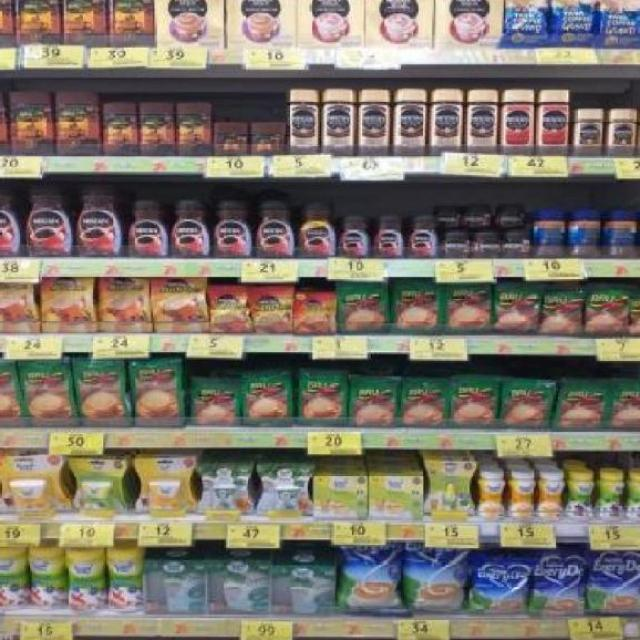Coffee: (28, 182, 73, 255), (79, 183, 118, 255), (154, 279, 204, 333), (42, 278, 91, 332), (102, 278, 149, 332), (128, 199, 165, 256), (255, 199, 291, 256), (214, 200, 250, 257), (173, 200, 209, 256), (430, 91, 462, 152), (288, 91, 319, 153), (395, 90, 425, 154), (468, 91, 497, 153), (326, 90, 354, 153), (211, 287, 250, 332), (361, 93, 388, 155), (0, 283, 34, 332), (255, 289, 291, 333), (297, 295, 333, 334), (340, 217, 370, 259), (0, 183, 17, 255), (609, 111, 636, 155), (374, 217, 402, 259), (574, 111, 600, 155), (410, 217, 438, 257), (442, 233, 469, 258), (503, 233, 531, 256), (498, 207, 527, 228), (465, 206, 492, 228), (473, 233, 498, 256), (437, 207, 458, 226)
